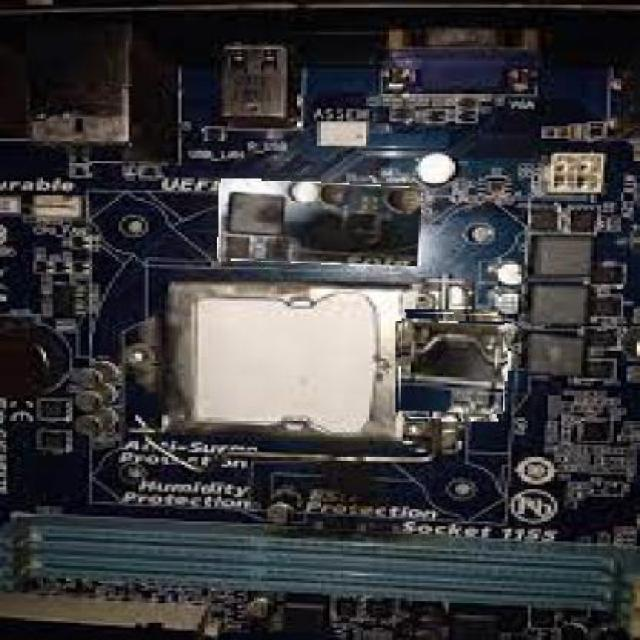Burn: (218, 181, 420, 265), (400, 313, 506, 419)
